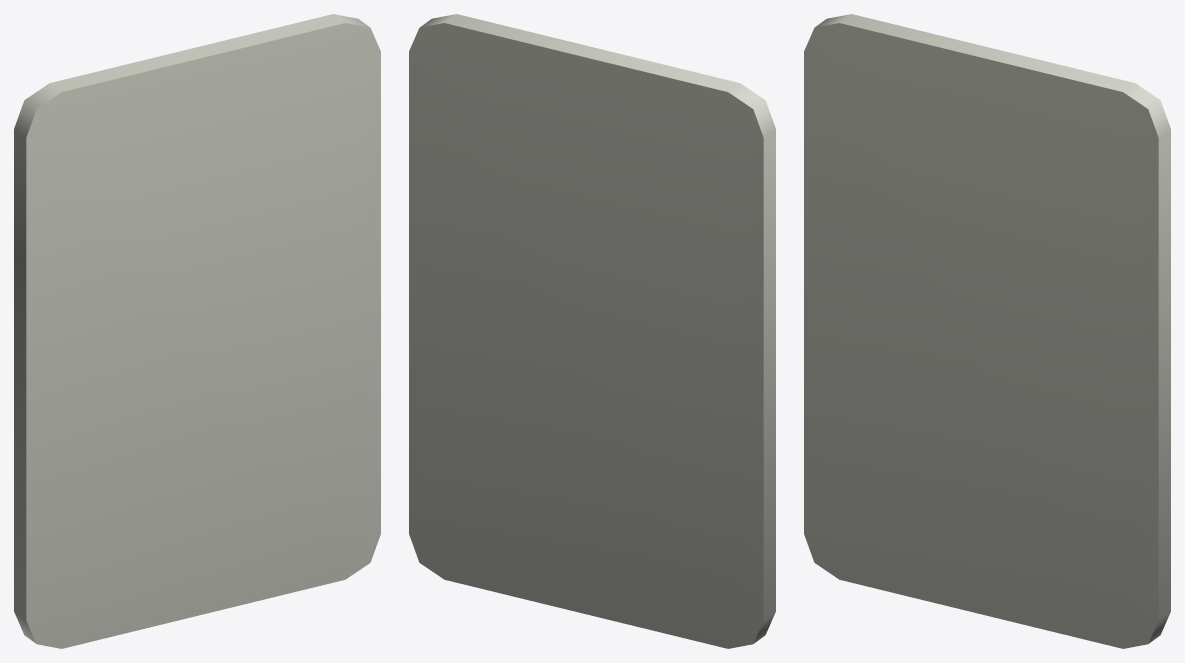
Rendered from Sign_Metal_02.fbx.
3 renders of one model, left to right at view 1: azimuth 30°, elevation 25°; view 2: azimuth 150°, elevation 25°; view 3: azimuth 330°, elevation 25°, orthographic.
Visible parts, largest first — view 1: Sign_Metal_02; view 2: Sign_Metal_02; view 3: Sign_Metal_02.
Boxes of the visible parts, x1=… form: Sign_Metal_02: x1=14, y1=14, x2=380, y2=648; Sign_Metal_02: x1=409, y1=14, x2=775, y2=648; Sign_Metal_02: x1=804, y1=14, x2=1170, y2=648.
Size of the model in its own units: 100 by 150 by 6.
